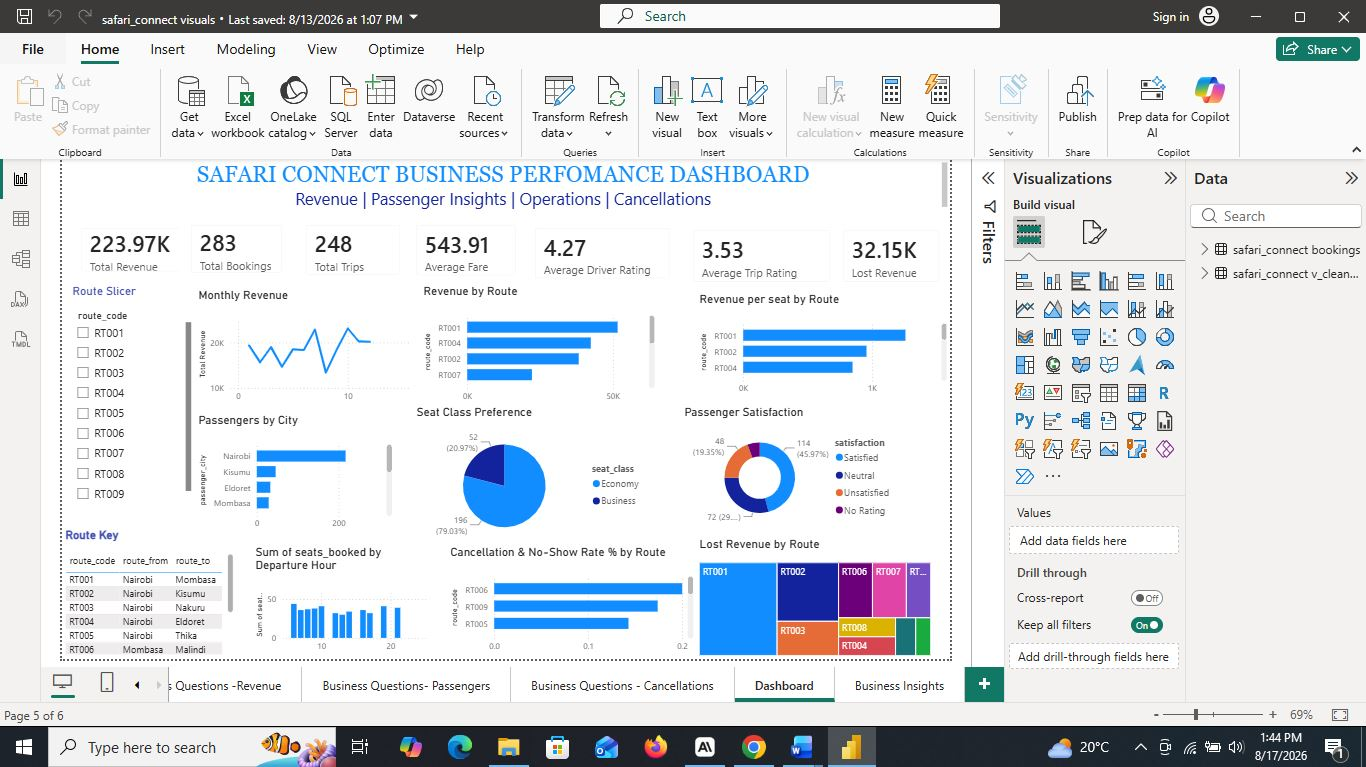

The dashboard page shown, as its layout file describes it:
{"tool":"powerbi","page":{"name":"Dashboard","canvas":[1280,720],"ordinal":4},"visuals":[{"type":"textbox","box":[0,0,1280,84.4],"z":0},{"type":"cardVisual","fields":{"Data":["safari_connect v_clean_trips.Total Revenue"]},"box":[10.1,82.7,180.7,97.9],"z":1000},{"type":"cardVisual","fields":{"Data":["safari_connect v_clean_trips.Total Trips"]},"box":[334.4,77.7,170.6,106.4],"z":2000},{"type":"cardVisual","fields":{"Data":["safari_connect v_clean_trips.Average Fare"]},"box":[493.1,77.7,178.1,107.5],"z":3000},{"type":"cardVisual","fields":{"Data":["safari_connect v_clean_trips.Average Driver Rating"]},"box":[663.6,82.7,228.5,107.5],"z":4000},{"type":"cardVisual","fields":{"Data":["safari_connect v_clean_trips.Average Trip Rating"]},"box":[891.6,84.4,231.8,109.2],"z":5000},{"type":"cardVisual","fields":{"Data":["safari_connect bookings.Lost Revenue"]},"box":[1107.8,84.4,173,109.2],"z":6000},{"type":"cardVisual","fields":{"Data":["safari_connect bookings.Total Bookings"]},"box":[168.9,77.7,165.5,103],"z":7000},{"type":"lineChart","title":"Monthly Revenue","fields":{"Y":["safari_connect v_clean_trips.Total Revenue"],"Category":["safari_connect v_clean_trips.month_num"]},"box":[190.8,185.8,314.1,173.9],"z":8000},{"type":"clusteredBarChart","title":"Revenue by Route","fields":{"Category":["safari_connect v_clean_trips.route_code"],"Y":["Sum(safari_connect v_clean_trips.calculated_fare)"]},"box":[515,180.7,342.8,179],"z":9000},{"type":"clusteredBarChart","title":"Revenue per seat by Route","fields":{"Category":["safari_connect v_clean_trips.route_code"],"Y":["safari_connect v_clean_trips.Revenue per seat"]},"box":[913.6,190.8,366.4,157],"z":10000},{"type":"clusteredBarChart","title":"Passengers by City","fields":{"Category":["safari_connect v_clean_trips.passenger_city"],"Y":["Sum(safari_connect v_clean_trips.seats_booked)"]},"box":[190.8,366.4,288.8,177.3],"z":11000},{"type":"pieChart","title":"Seat Class Preference","fields":{"Category":["safari_connect v_clean_trips.seat_class"],"Y":["CountNonNull(safari_connect v_clean_trips.booking_id)"]},"box":[504.9,354.6,342.8,200.9],"z":12000},{"type":"donutChart","title":"Passenger Satisfaction","fields":{"Category":["safari_connect v_clean_trips.satisfaction"],"Y":["CountNonNull(safari_connect v_clean_trips.booking_id)"]},"box":[891.6,354.6,315.8,177.3],"z":13000},{"type":"clusteredBarChart","title":"Cancellation & No-Show Rate %  by Route","fields":{"Y":["safari_connect bookings.Cancellation & No-Show Rate % 1"],"Category":["safari_connect bookings.route_code"]},"box":[553.9,555.6,359.7,163.8],"z":14000},{"type":"treemap","title":"Lost Revenue by Route","fields":{"Group":["safari_connect bookings.route_code"],"Values":["safari_connect bookings.Lost Revenue"]},"box":[913.6,543.7,342.8,175.6],"z":15000},{"type":"tableEx","title":"Route Key","fields":{"Values":["safari_connect v_clean_trips.route_code","safari_connect v_clean_trips.route_from","safari_connect v_clean_trips.route_to"]},"box":[0,531.9,251.6,187.4],"z":16000},{"type":"slicer","title":"Route Slicer","fields":{"Values":["safari_connect v_clean_trips.route_code"]},"box":[10.1,180.7,180.7,325.9],"z":17000},{"type":"clusteredColumnChart","fields":{"Category":["safari_connect v_clean_trips.Departure Hour"],"Y":["Sum(safari_connect v_clean_trips.seats_booked)"]},"box":[273.6,555.6,261.7,163.8],"z":18000}]}

Visuals, with their boxes on the page's 1280x720 design canvas (x1, y1, x2, y2). These are canvas units, not pixel positions in the 1366x767 screenshot, which may show the page scaled, cropped or inside an application window:
textbox: select_region(0, 0, 1280, 84)
cardVisual - safari_connect v_clean_trips.Total Revenue: select_region(10, 83, 191, 181)
cardVisual - safari_connect v_clean_trips.Total Trips: select_region(334, 78, 505, 184)
cardVisual - safari_connect v_clean_trips.Average Fare: select_region(493, 78, 671, 185)
cardVisual - safari_connect v_clean_trips.Average Driver Rating: select_region(664, 83, 892, 190)
cardVisual - safari_connect v_clean_trips.Average Trip Rating: select_region(892, 84, 1123, 194)
cardVisual - safari_connect bookings.Lost Revenue: select_region(1108, 84, 1281, 194)
cardVisual - safari_connect bookings.Total Bookings: select_region(169, 78, 334, 181)
"Monthly Revenue" lineChart: select_region(191, 186, 505, 360)
"Revenue by Route" clusteredBarChart: select_region(515, 181, 858, 360)
"Revenue per seat by Route" clusteredBarChart: select_region(914, 191, 1280, 348)
"Passengers by City" clusteredBarChart: select_region(191, 366, 480, 544)
"Seat Class Preference" pieChart: select_region(505, 355, 848, 556)
"Passenger Satisfaction" donutChart: select_region(892, 355, 1207, 532)
"Cancellation & No-Show Rate %  by Route" clusteredBarChart: select_region(554, 556, 914, 719)
"Lost Revenue by Route" treemap: select_region(914, 544, 1256, 719)
"Route Key" tableEx: select_region(0, 532, 252, 719)
"Route Slicer" slicer: select_region(10, 181, 191, 507)
clusteredColumnChart - safari_connect v_clean_trips.Departure Hour x Sum(safari_connect v_clean_trips.seats_booked): select_region(274, 556, 535, 719)
